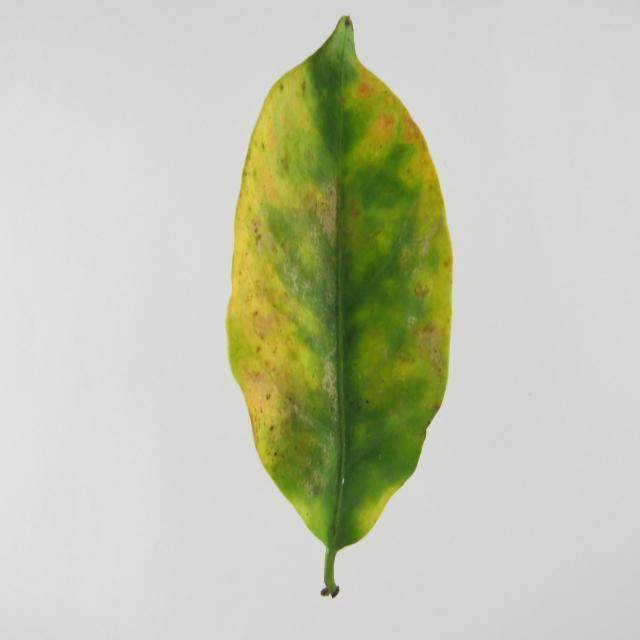DeficienciaNutricional-Fosforo: (226, 17, 452, 597)
